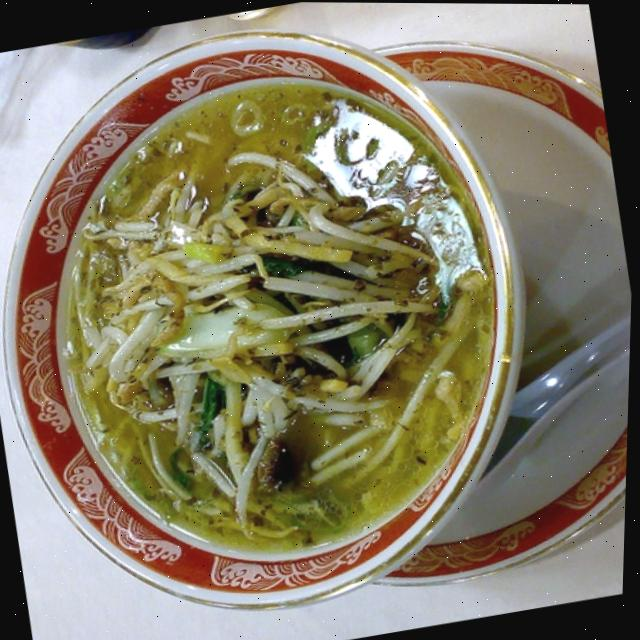面条主食: (7, 17, 569, 621)
